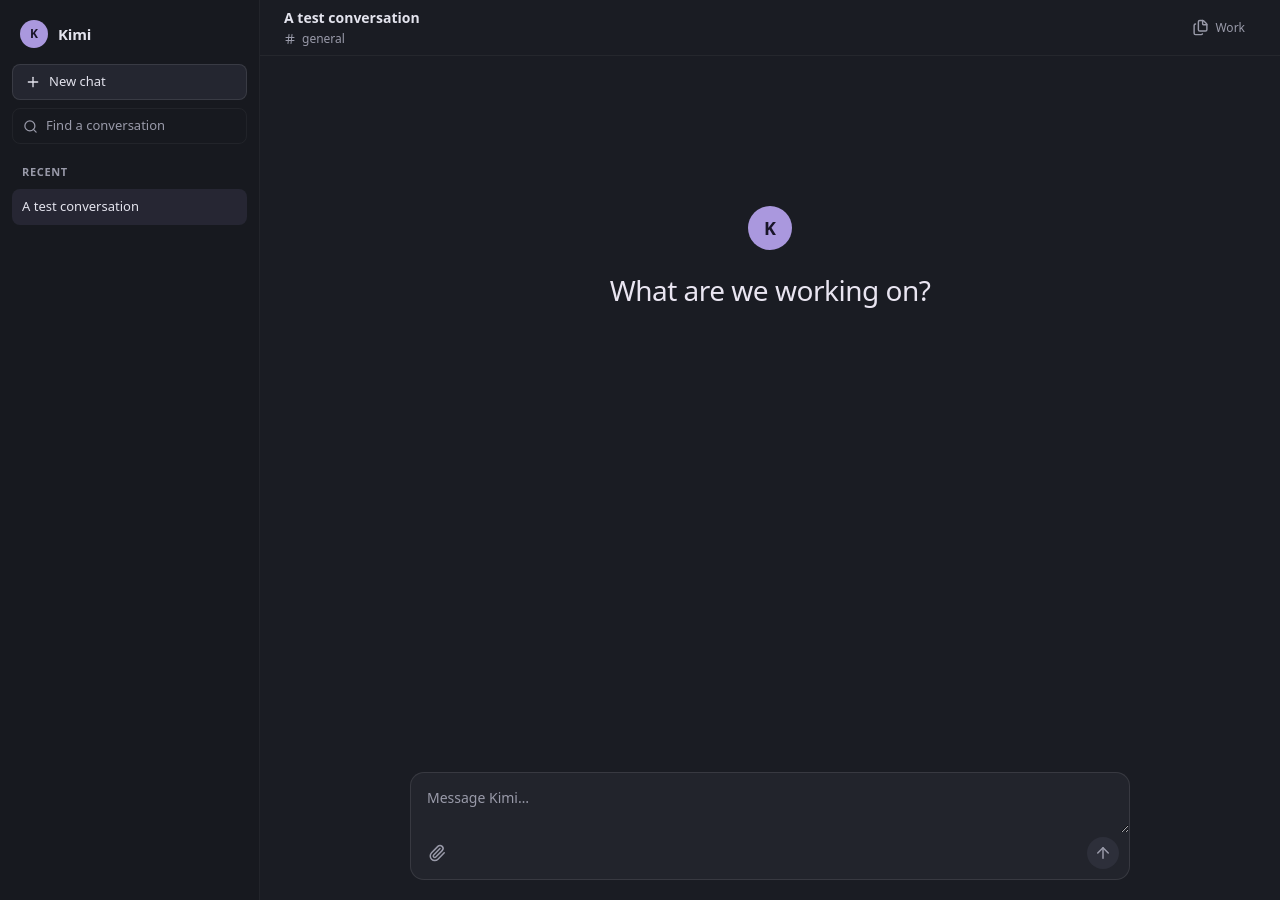
Test case: saved chat › finishing before HTTP acceptance does not leave the composer busy
Step 1. Type "hello" into the text box labelled "Message Kimi" → (770, 803), box [411,773,1129,833]
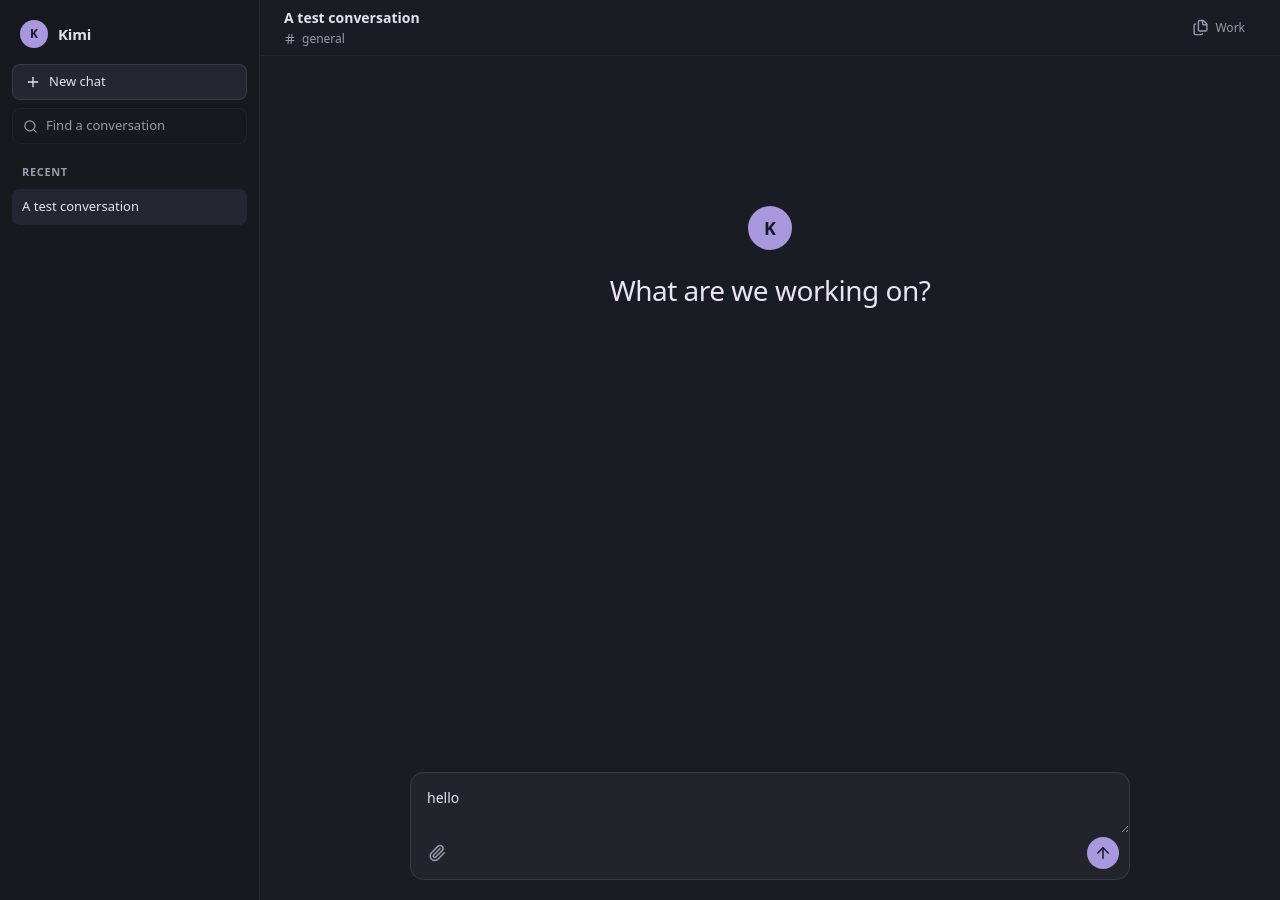
Step 2. Click the button named "Send message" → (1103, 853), box [1087,837,1119,869]
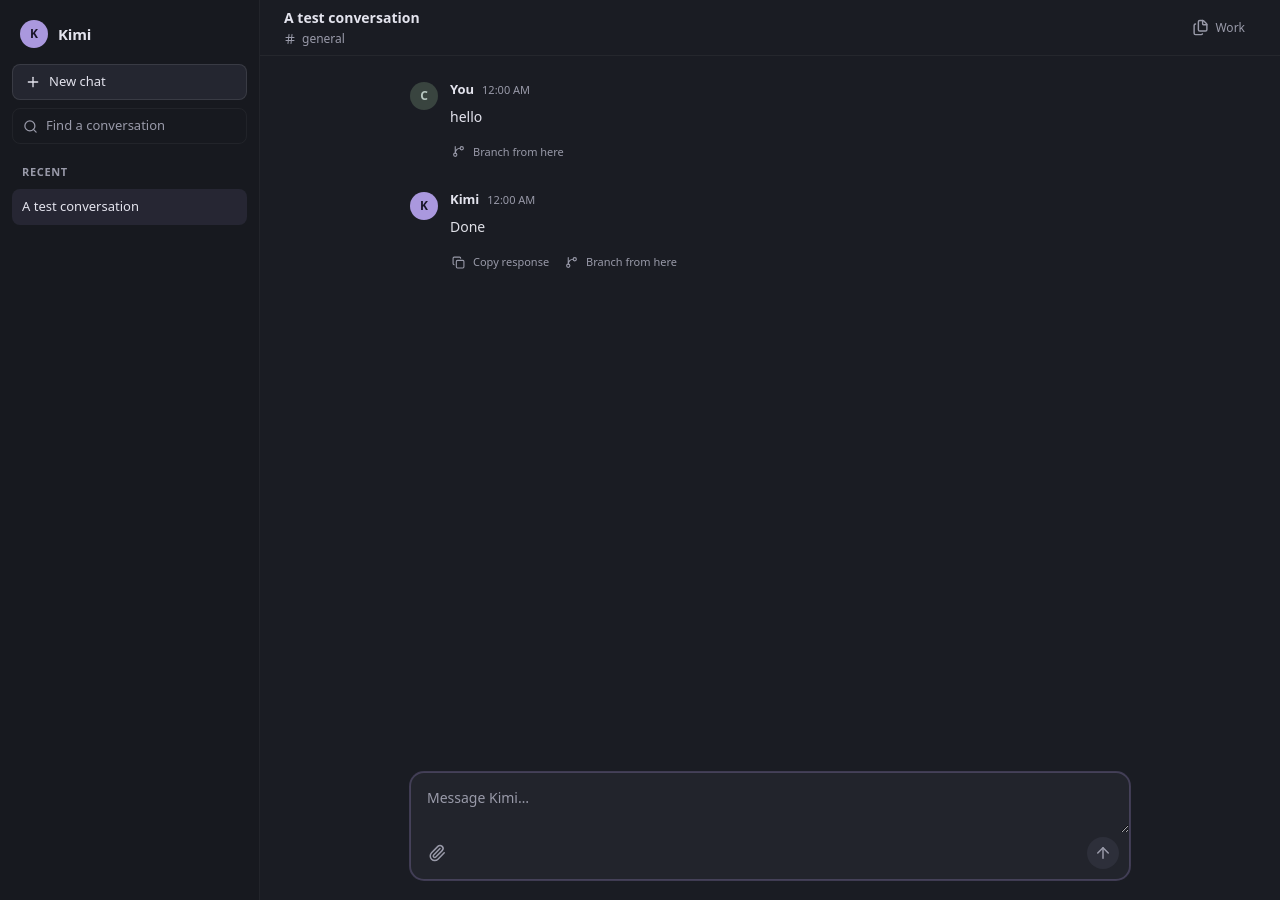
Result: the text "Done" is shown at [450,217,485,236]
